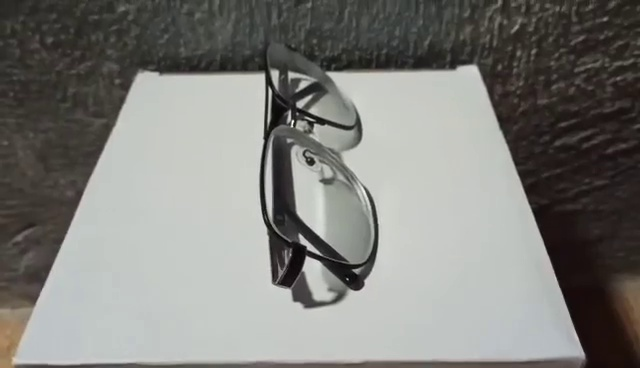glasses: (250, 35, 378, 311)
